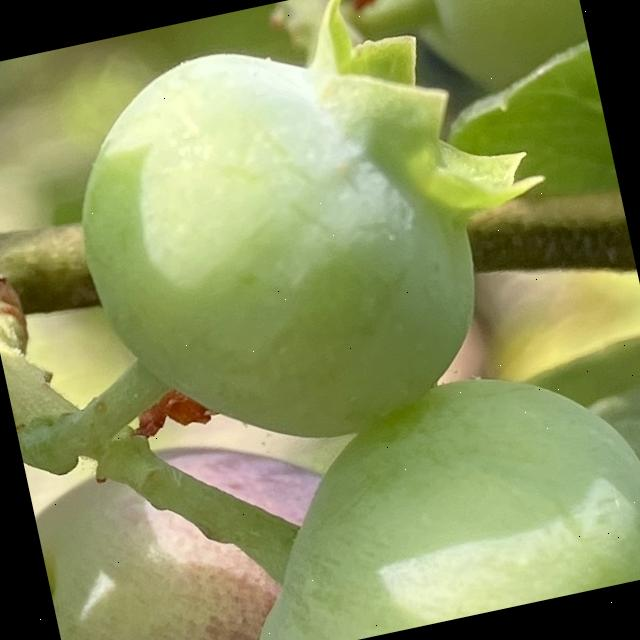Blueberries: (39, 0, 598, 477), (195, 336, 640, 640)
